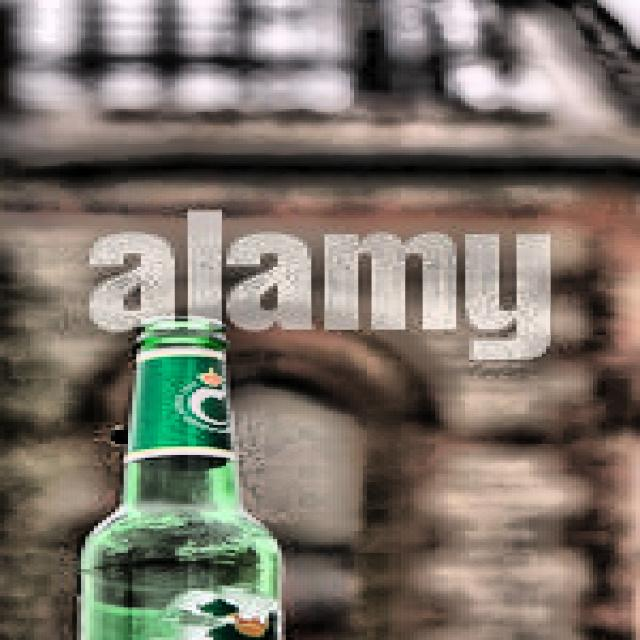glass: (74, 311, 288, 640)
